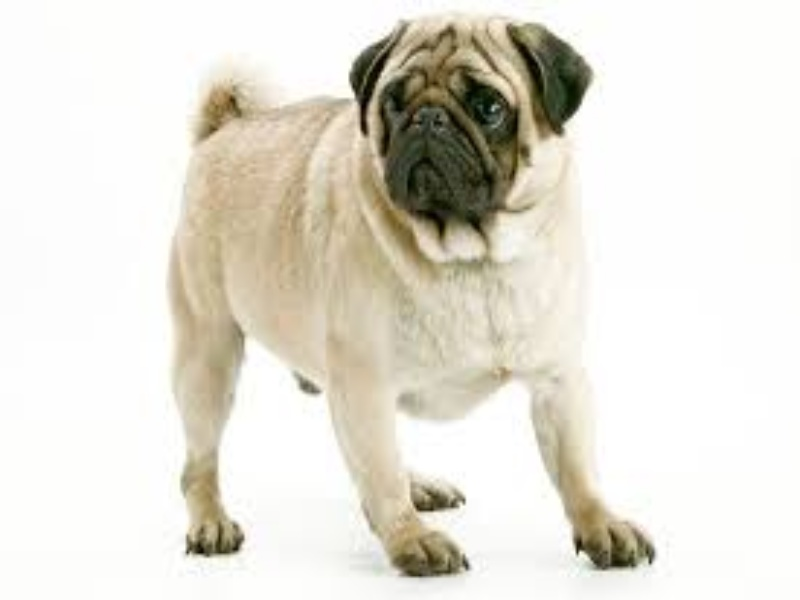dog: (67, 6, 714, 586)
